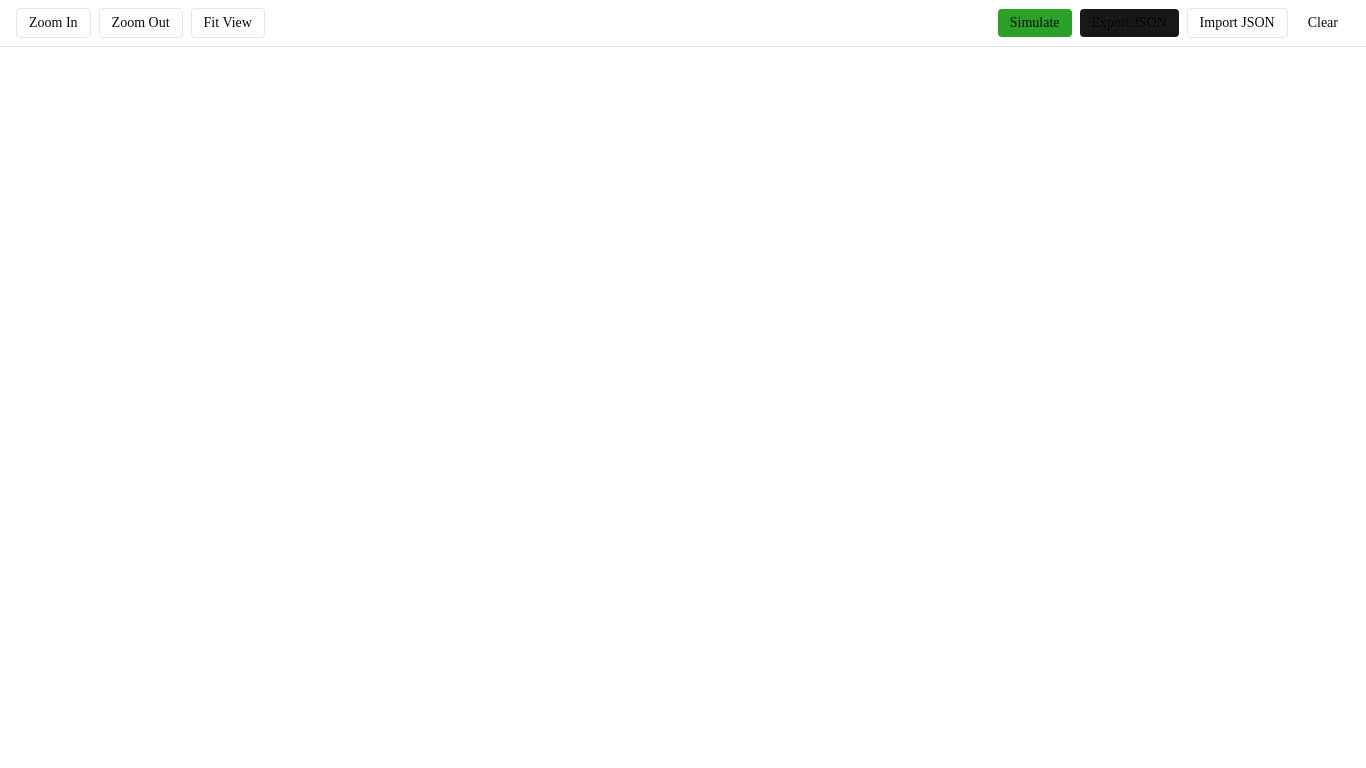
it: FlowToolbar › clear flow confirmation › should show confirmation dialog when Clear button is clicked
The width and height of the screenshot is (1366, 768).
Click the button "Clear": (1323, 23) [1296, 9, 1350, 37]
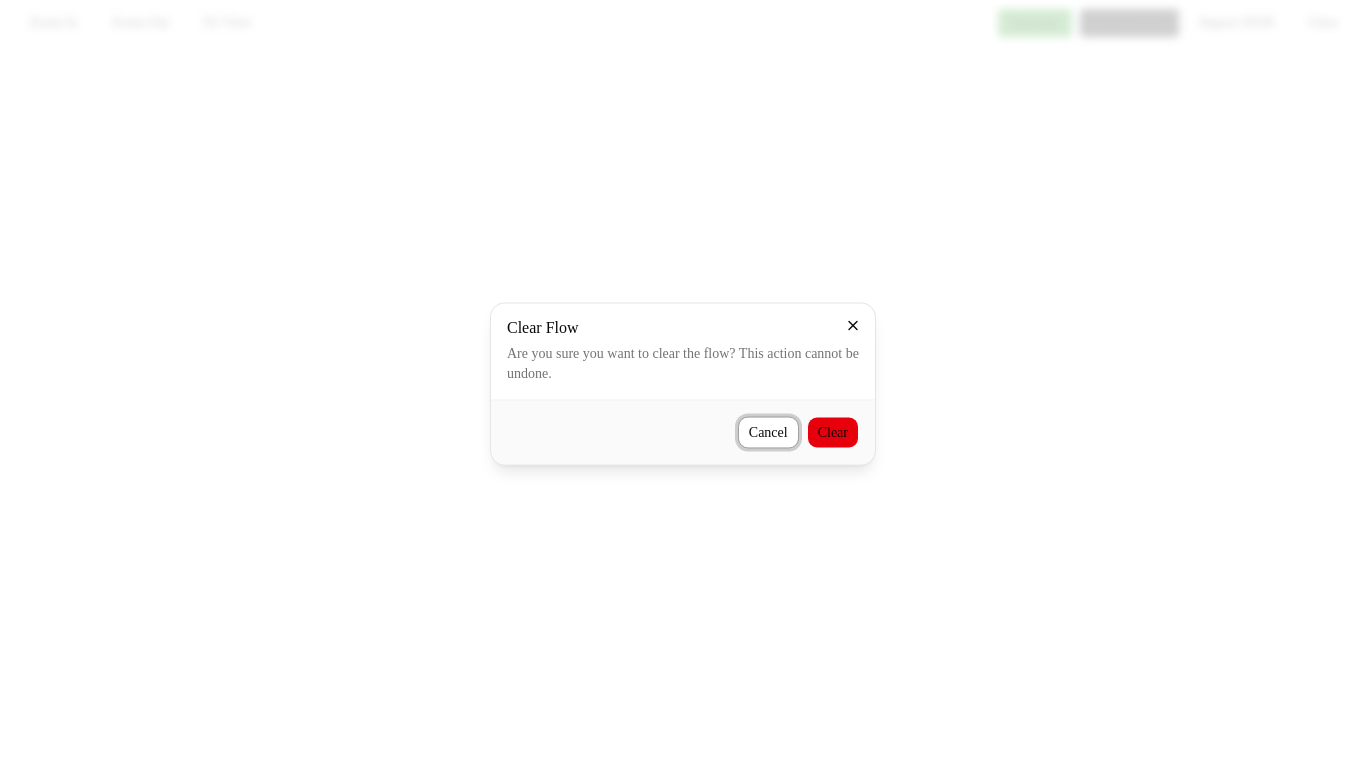
Result: the heading "Clear Flow" is shown at [507, 318, 578, 336]
